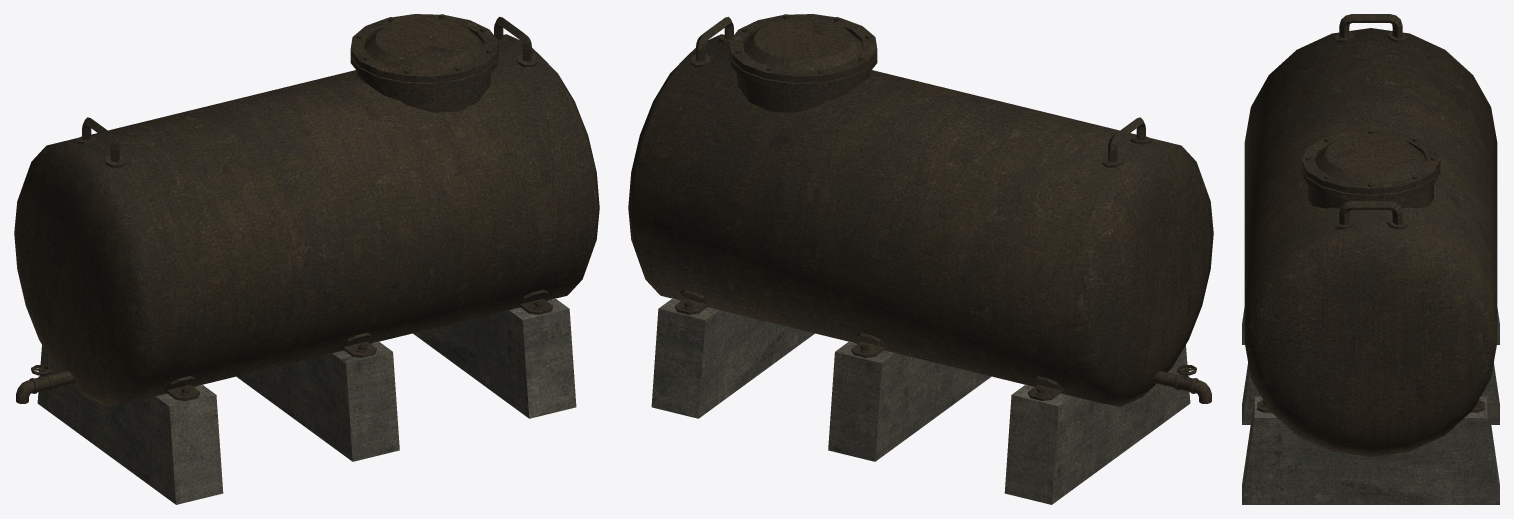
File: storage_tank_mx_1.obj
3 renders of one model, left to right at view 1: azimuth 30°, elevation 25°; view 2: azimuth 150°, elevation 25°; view 3: azimuth 270°, elevation 25°, orthographic. The views are drawn at different scales.
Visible parts, largest first — view 1: storage_tank_mx_1; view 2: storage_tank_mx_1; view 3: storage_tank_mx_1.
Part boxes in pixels (left/top/right/bottom): storage_tank_mx_1: left=14, top=14, right=599, bottom=504; storage_tank_mx_1: left=628, top=14, right=1213, bottom=504; storage_tank_mx_1: left=1242, top=14, right=1499, bottom=504.
Size of the model in its own units: 4.53 by 2.74 by 2.04.
